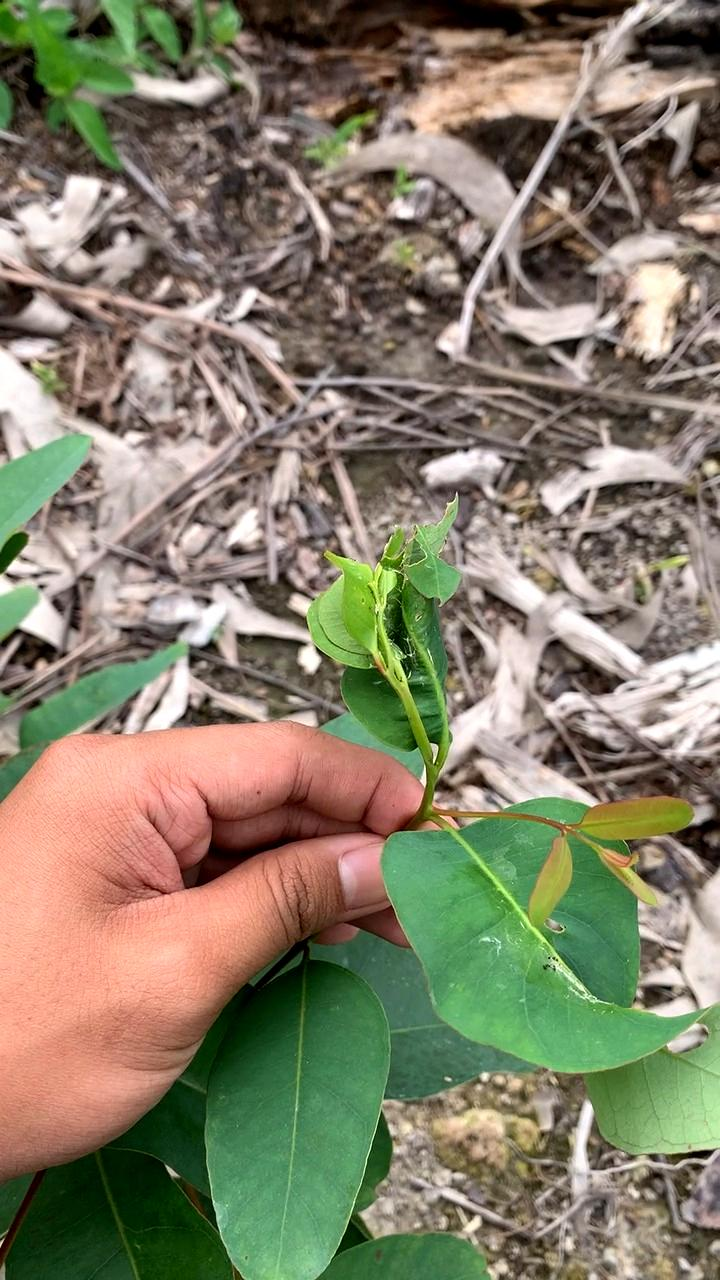Leaf Roller - Leaf: (323, 538, 485, 771)
